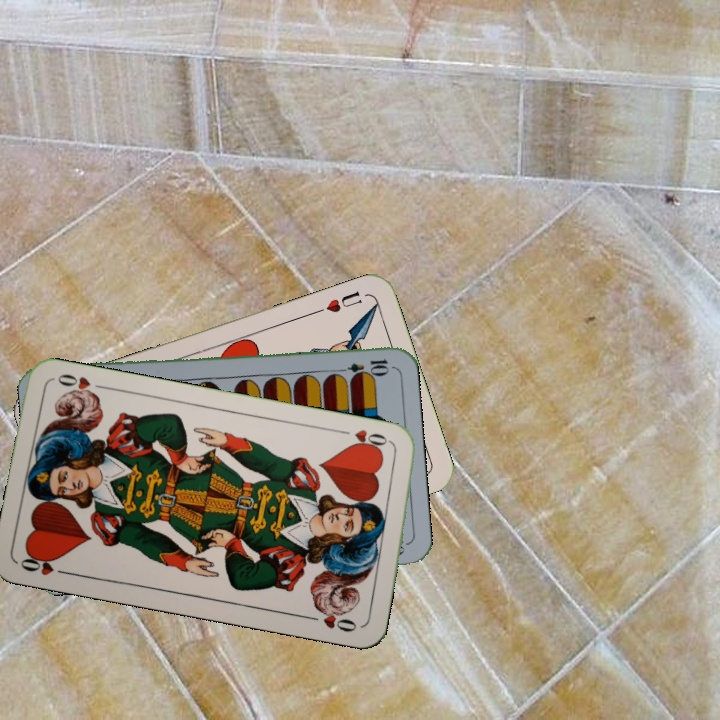E10: (332, 355, 392, 377)
HO: (336, 425, 395, 455), (16, 549, 75, 579)
HU: (311, 287, 365, 316)
